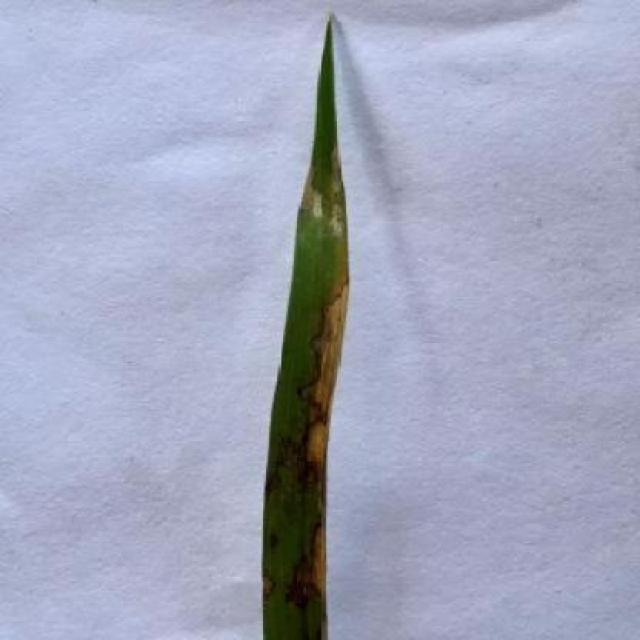Brown_Spot: (249, 9, 360, 640)
